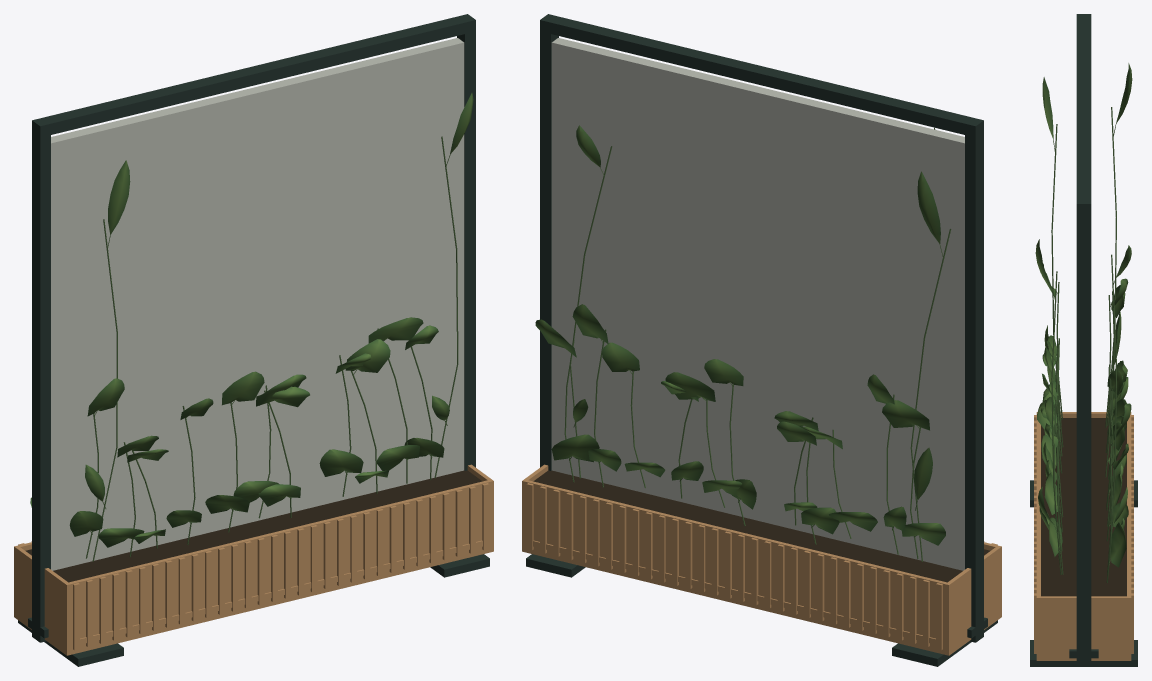
Rendered from botanicalDivider-1.glb.
The picture shows the model from 3 angles, left to right: view 1: azimuth 30°, elevation 25°; view 2: azimuth 150°, elevation 25°; view 3: azimuth 270°, elevation 25°; orthographic projection. The views are drawn at different scales.
Parts seen in each view (by area): view 1: Botanical_felt_screen, Botanical_frame_finish, Botanical_powdercoat, Botanical_living_foliage, Botanical_recessed_soil, Botanical_connected_stems; view 2: Botanical_felt_screen, Botanical_frame_finish, Botanical_powdercoat, Botanical_living_foliage, Botanical_recessed_soil, Botanical_connected_stems; view 3: Botanical_powdercoat, Botanical_recessed_soil, Botanical_frame_finish, Botanical_living_foliage, Botanical_connected_stems.
Boxes of the visible parts, left/top/right/bottom form: Botanical_felt_screen: left=51, top=38, right=464, bottom=570; Botanical_frame_finish: left=14, top=464, right=493, bottom=655; Botanical_powdercoat: left=18, top=14, right=489, bottom=666; Botanical_living_foliage: left=30, top=93, right=473, bottom=547; Botanical_recessed_soil: left=25, top=470, right=482, bottom=582; Botanical_connected_stems: left=86, top=136, right=458, bottom=561; Botanical_felt_screen: left=551, top=38, right=964, bottom=570; Botanical_frame_finish: left=522, top=464, right=1001, bottom=655; Botanical_powdercoat: left=526, top=14, right=997, bottom=666; Botanical_living_foliage: left=535, top=125, right=945, bottom=545; Botanical_recessed_soil: left=533, top=470, right=990, bottom=582; Botanical_connected_stems: left=564, top=146, right=951, bottom=561; Botanical_powdercoat: left=1030, top=14, right=1137, bottom=666; Botanical_recessed_soil: left=1041, top=418, right=1126, bottom=596; Botanical_frame_finish: left=1034, top=412, right=1133, bottom=660; Botanical_living_foliage: left=1035, top=63, right=1132, bottom=567; Botanical_connected_stems: left=1051, top=107, right=1116, bottom=582.
Size of the model in its own units: 2 by 2.3 by 0.48.
